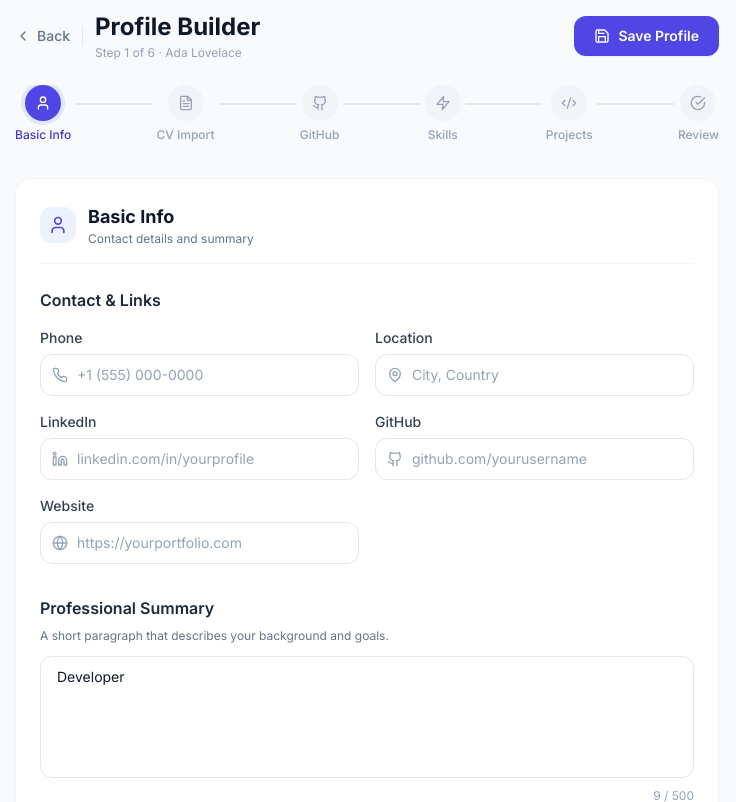
Test: ProfileBuilderPage — server validation errors › an error on experience[1].endDate jumps to the CV step and shows under that field
Click the button "Save Profile" at [647, 36], box [574,16,719,56]
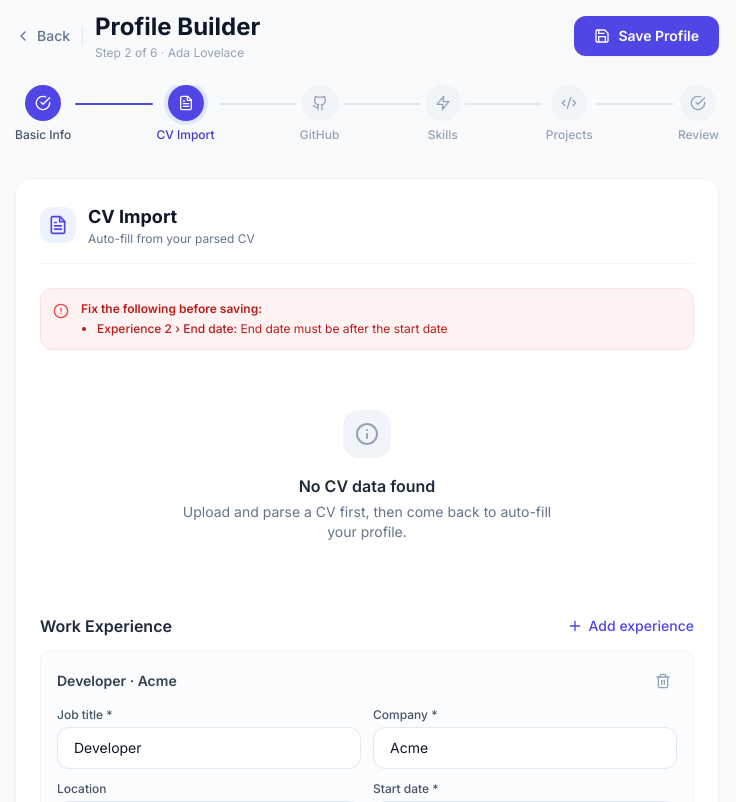
Expected: the heading "CV Import" is shown, [88,206,177,227]
Expected: the text "Experience 2 › End date:" is shown, [97,321,237,336]
